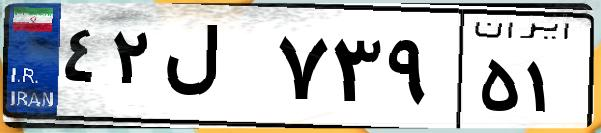1: (525, 38, 570, 115)
2: (110, 28, 158, 98)
3: (330, 28, 385, 110)
4: (57, 26, 110, 100)
5: (475, 38, 525, 113)
7: (270, 28, 330, 110)
9: (385, 28, 445, 110)
ل: (158, 20, 270, 120)
